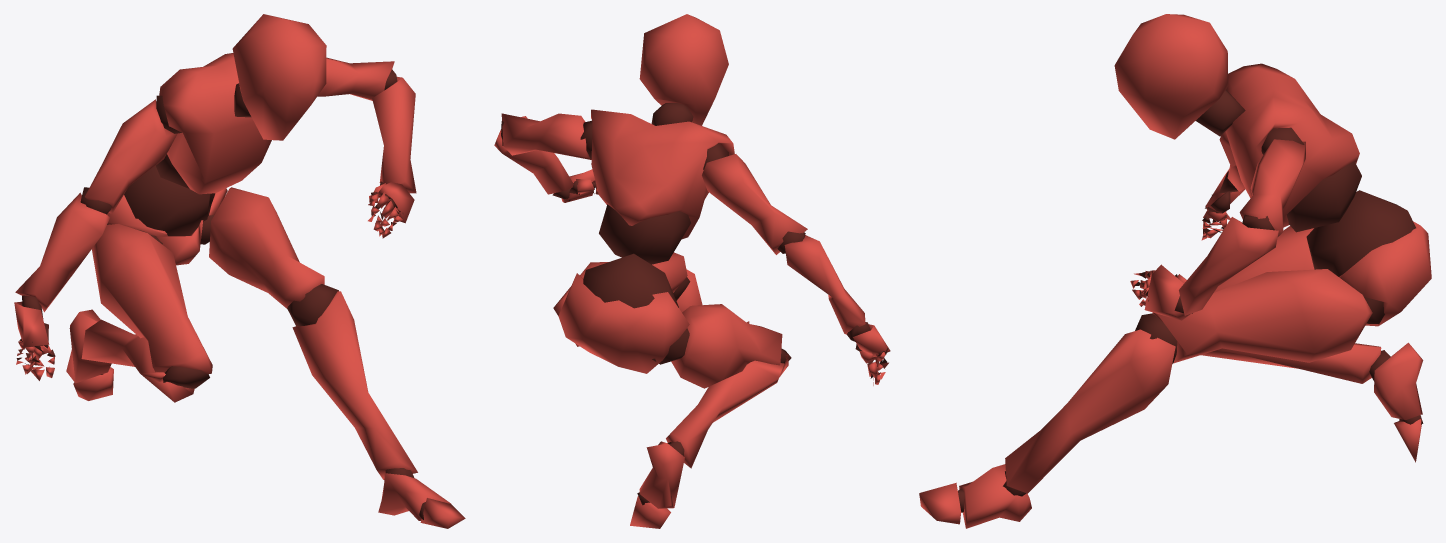
The picture shows the model from 3 angles, left to right: view 1: azimuth 30°, elevation 25°; view 2: azimuth 150°, elevation 25°; view 3: azimuth 270°, elevation 25°; orthographic projection. The views are drawn at different scales.
Parts seen in each view (by area): view 1: Beta_Surface; view 2: Beta_Surface; view 3: Beta_Surface.
Part boxes in pixels (left/top/right/bottom): Beta_Surface: left=14, top=14, right=465, bottom=528; Beta_Surface: left=494, top=14, right=890, bottom=528; Beta_Surface: left=919, top=14, right=1431, bottom=528.
Size of the model in its own units: 9.34 by 9.89 by 9.53.
